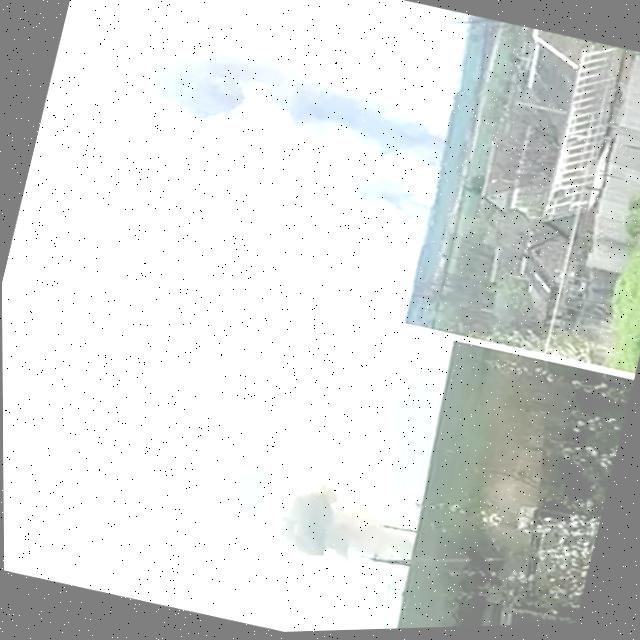Smoke: (92, 0, 465, 180), (271, 468, 422, 582), (333, 164, 434, 235)
